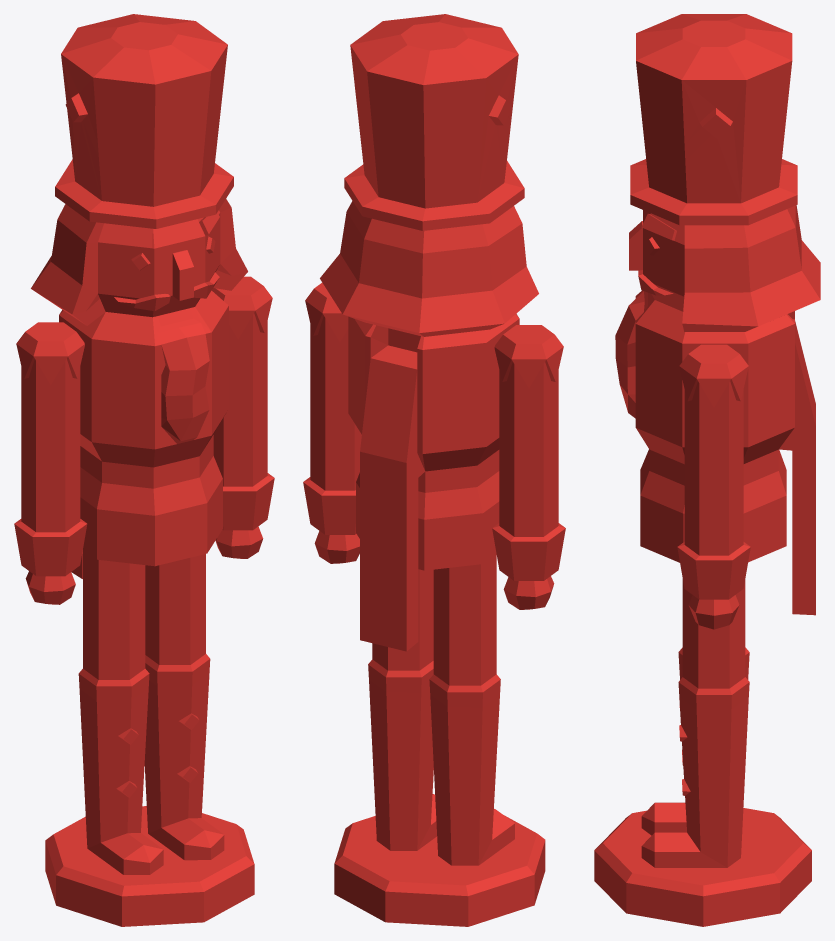
Rendered from SM_Nutcracker.fbx.
3 renders of one model, left to right at view 1: azimuth 30°, elevation 25°; view 2: azimuth 150°, elevation 25°; view 3: azimuth 270°, elevation 25°, orthographic.
Visible parts, largest first — view 1: nutcracker; view 2: nutcracker; view 3: nutcracker.
Part boxes in pixels (x1,y1,x2,y2): nutcracker: [14, 14, 274, 926]; nutcracker: [303, 14, 565, 926]; nutcracker: [594, 14, 820, 926].
Bounding box in the file's own units: 0.1516 × 0.504 × 0.1221.
